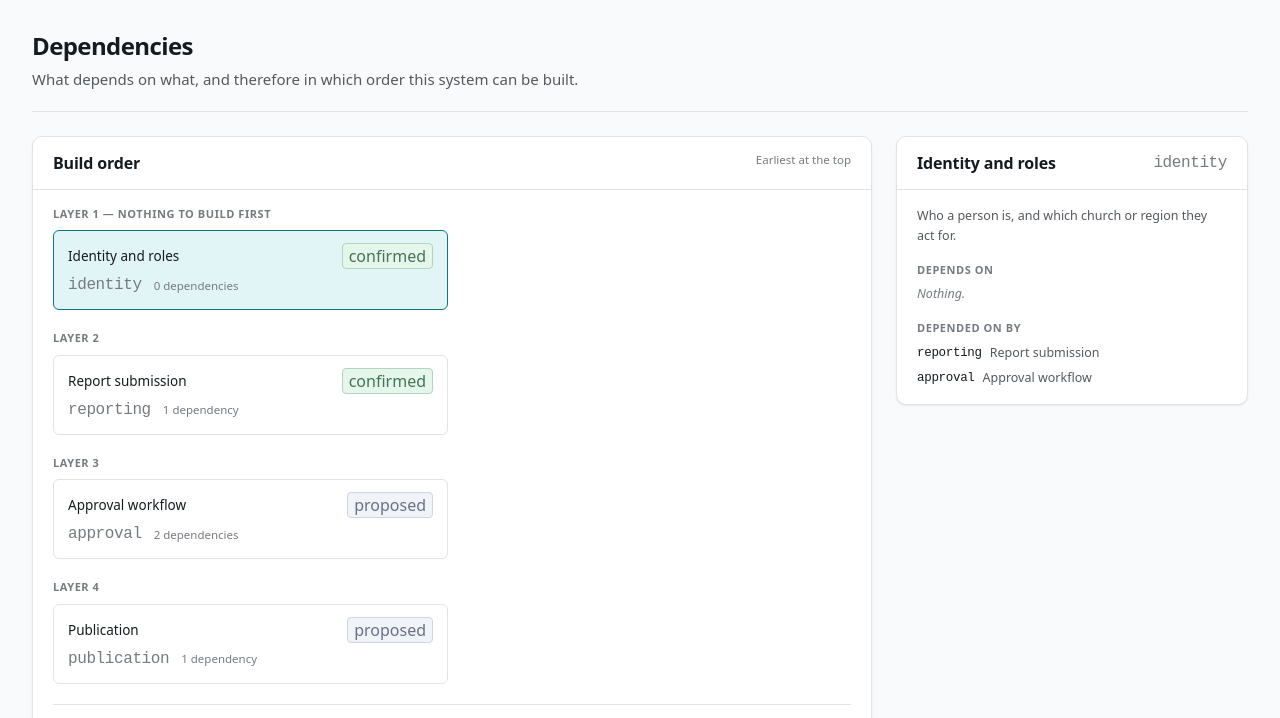
nothing describes a module more richly than Memory does › renders an edge to a statement without pretending it is a module
Expected: the heading "Build order" is shown, [53,151,140,175]
Click the button "Approval workflow proposed approval 2 dependencies": (127, 505) [53,479,448,559]
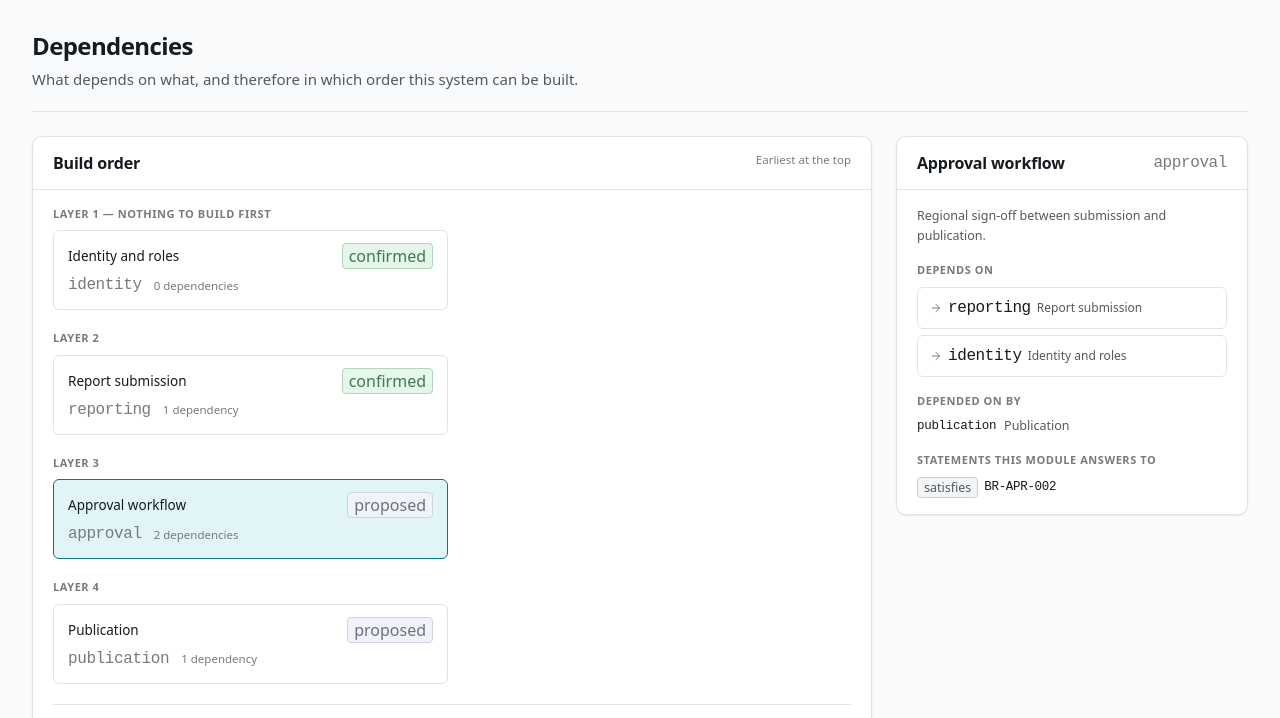
Expected: the text "Depended on by" is shown, [917,393,1021,408]
Expected: the text "BR-APR-002" is shown, [984,478,1056,497]
Expected: the text "Statements this module answers to" is shown, [917,452,1156,467]
